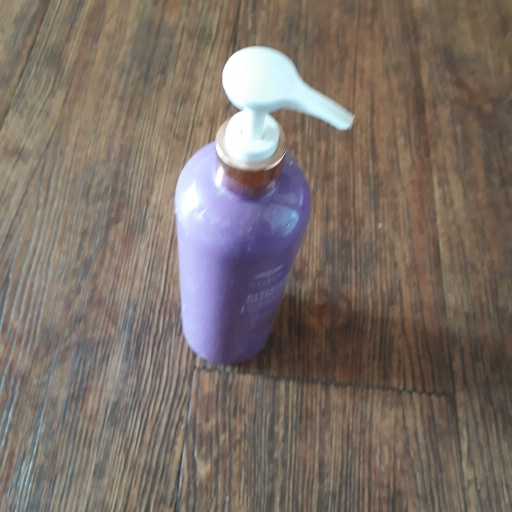Plastic_3: (169, 44, 356, 367)
